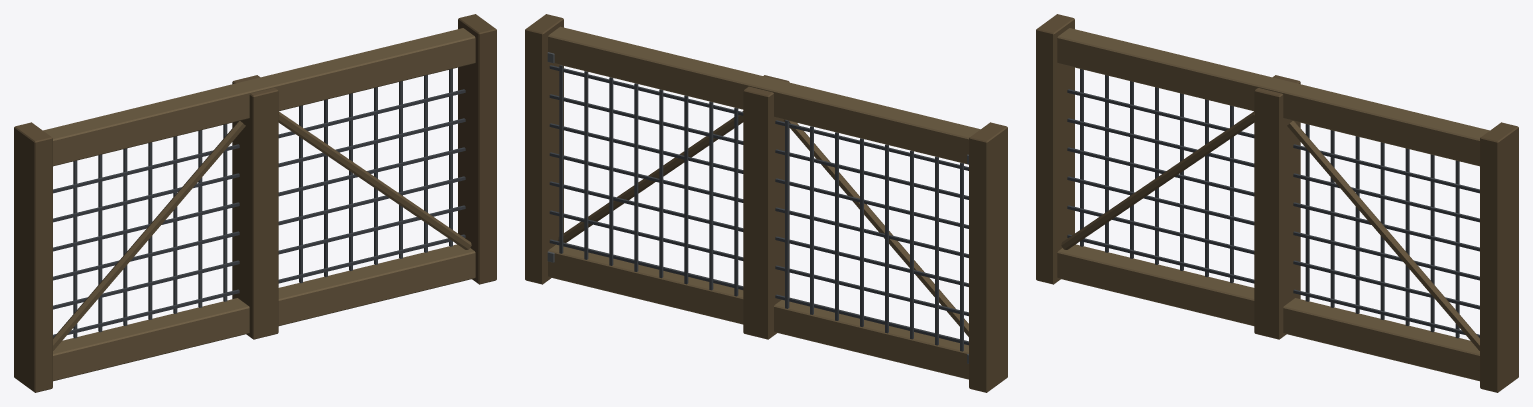
Rendered from SM_Pen_Fence_250_A.fbx.
The picture shows the model from 3 angles, left to right: view 1: azimuth 30°, elevation 25°; view 2: azimuth 150°, elevation 25°; view 3: azimuth 330°, elevation 25°; orthographic projection.
Visible parts, largest first — view 1: SM_Pen_Fence_250_A; view 2: SM_Pen_Fence_250_A; view 3: SM_Pen_Fence_250_A.
Boxes of the visible parts, x1,y1,x2,y2 form: SM_Pen_Fence_250_A: (14, 14, 496, 392); SM_Pen_Fence_250_A: (525, 14, 1007, 392); SM_Pen_Fence_250_A: (1036, 14, 1518, 392).
Size of what is drawn, in the model's own units: 20 by 250 by 130.
